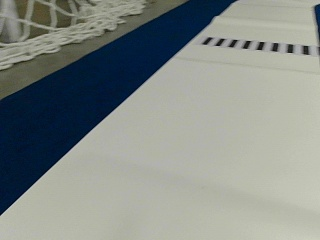crosswalk: (200, 35, 316, 56)
